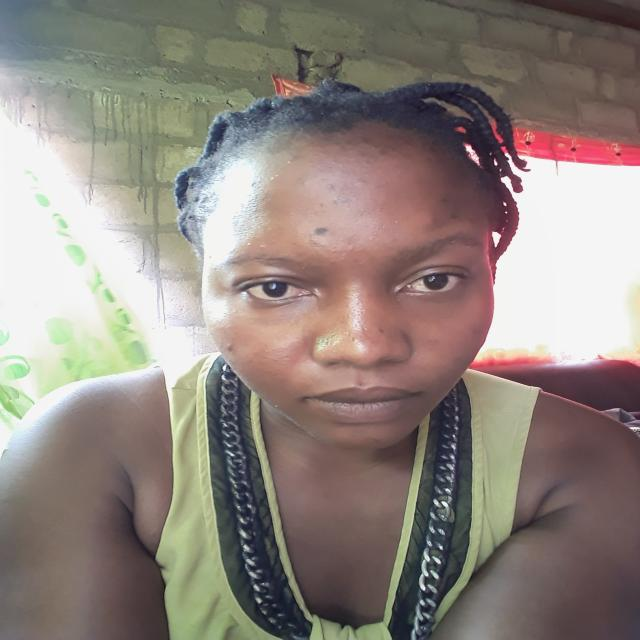eyebrow: (393, 234, 484, 262), (222, 256, 313, 277)
